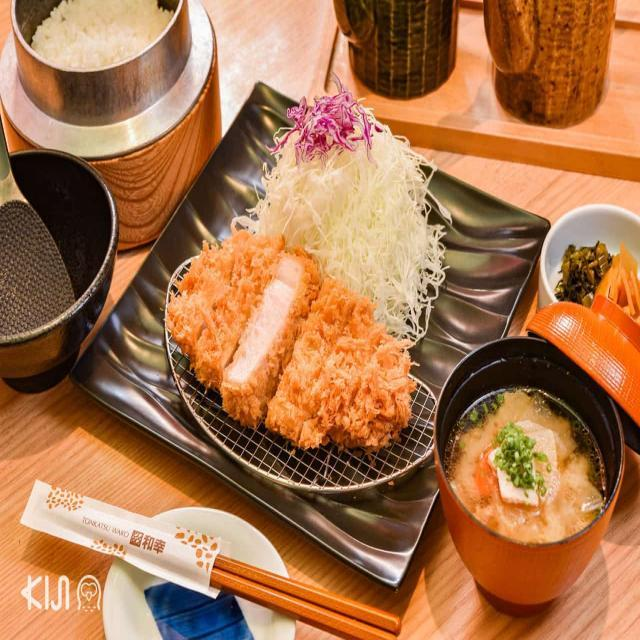cac loai rau cu: (260, 84, 456, 284), (561, 234, 640, 315), (498, 419, 548, 494)
com: (31, 0, 173, 65)
thit heo: (169, 229, 414, 449)
thit heo chien xu tonkatsu: (26, 0, 640, 605)
